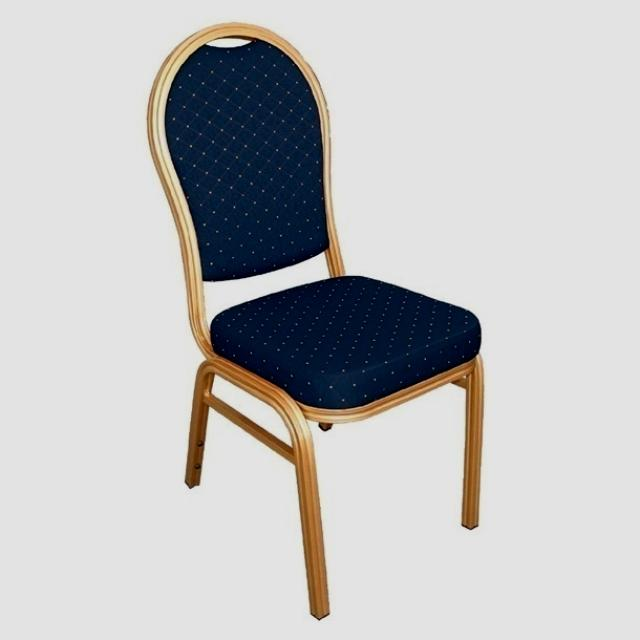Chair: (148, 22, 488, 623)
